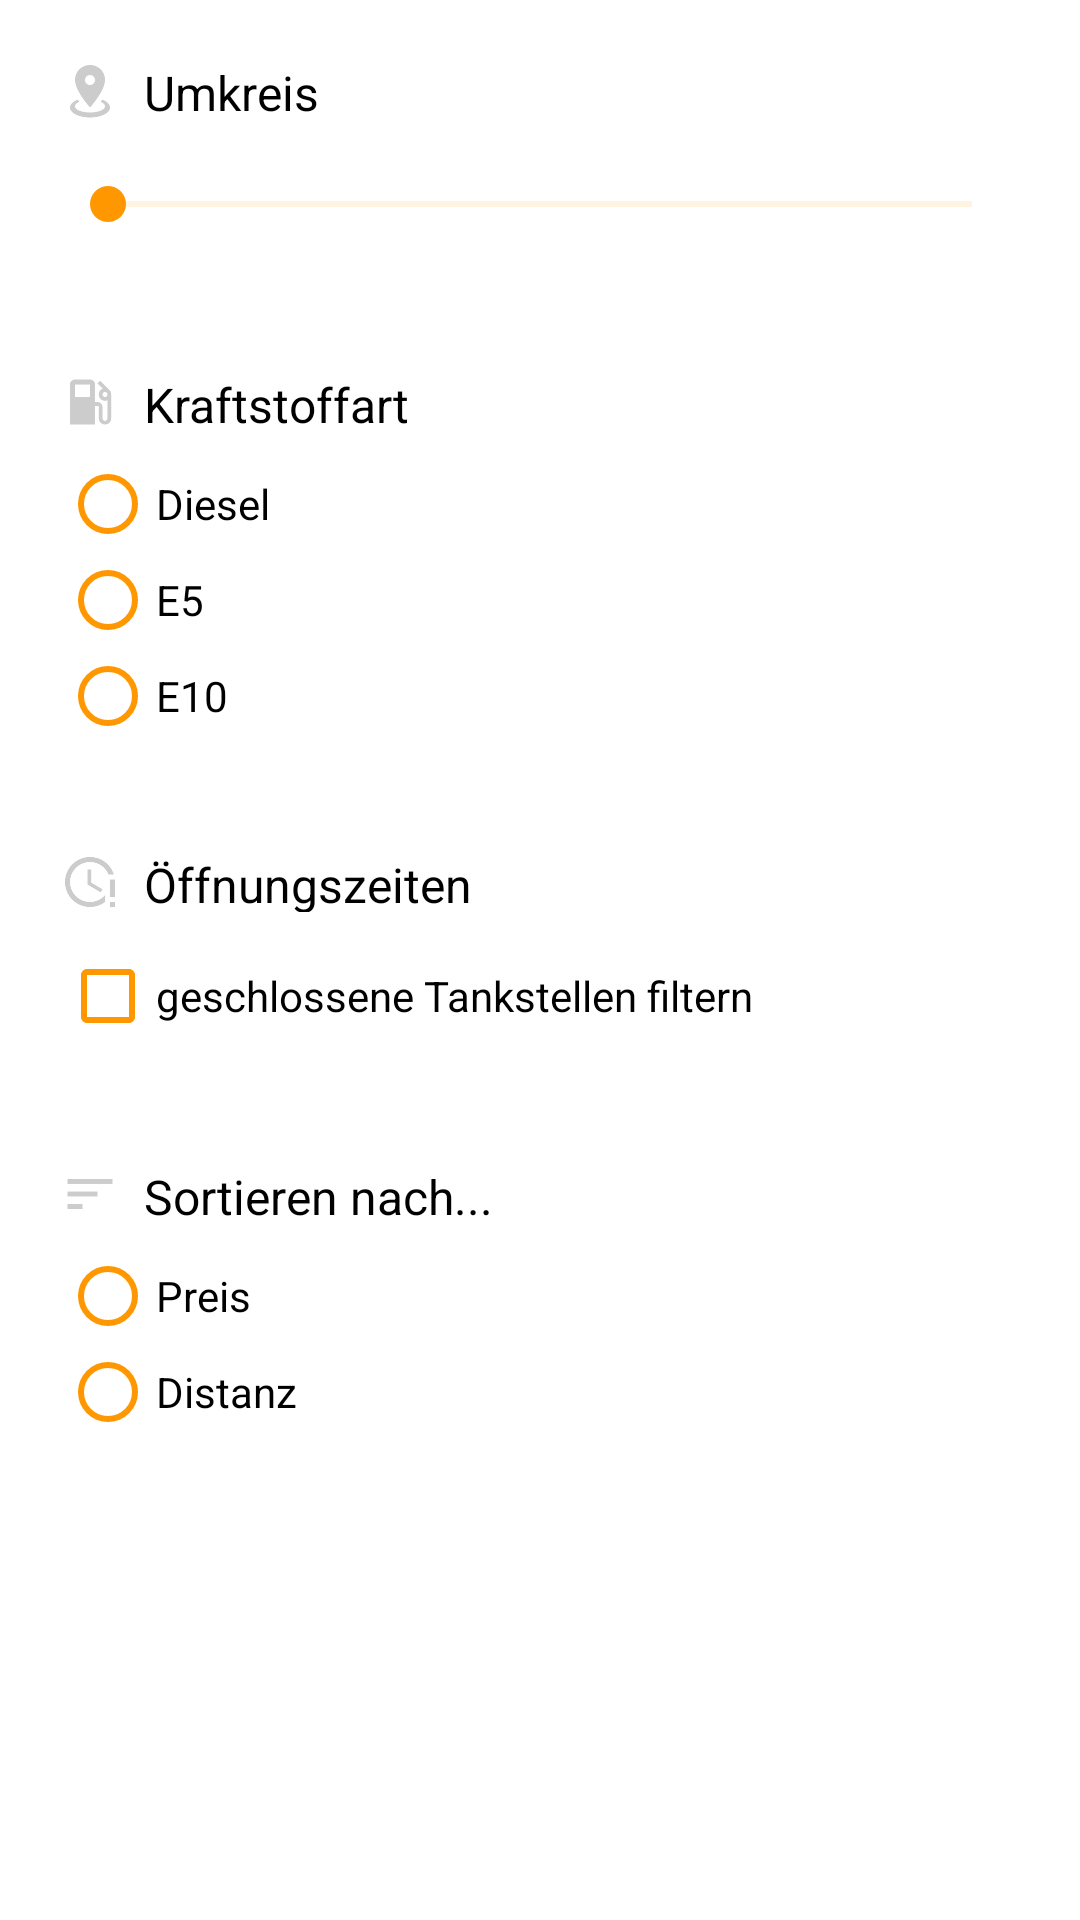

Icon click points for this 1080px×1920px phone screenshot, format (x=x, y=y):
closed: (x=90, y=882)
radius: (x=90, y=91)
sortby: (x=90, y=1194)
station: (x=90, y=402)
